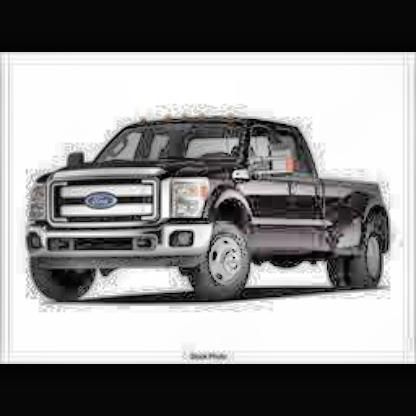Ford F-450 Super Duty Crew Cab 2012: (27, 113, 395, 309)
